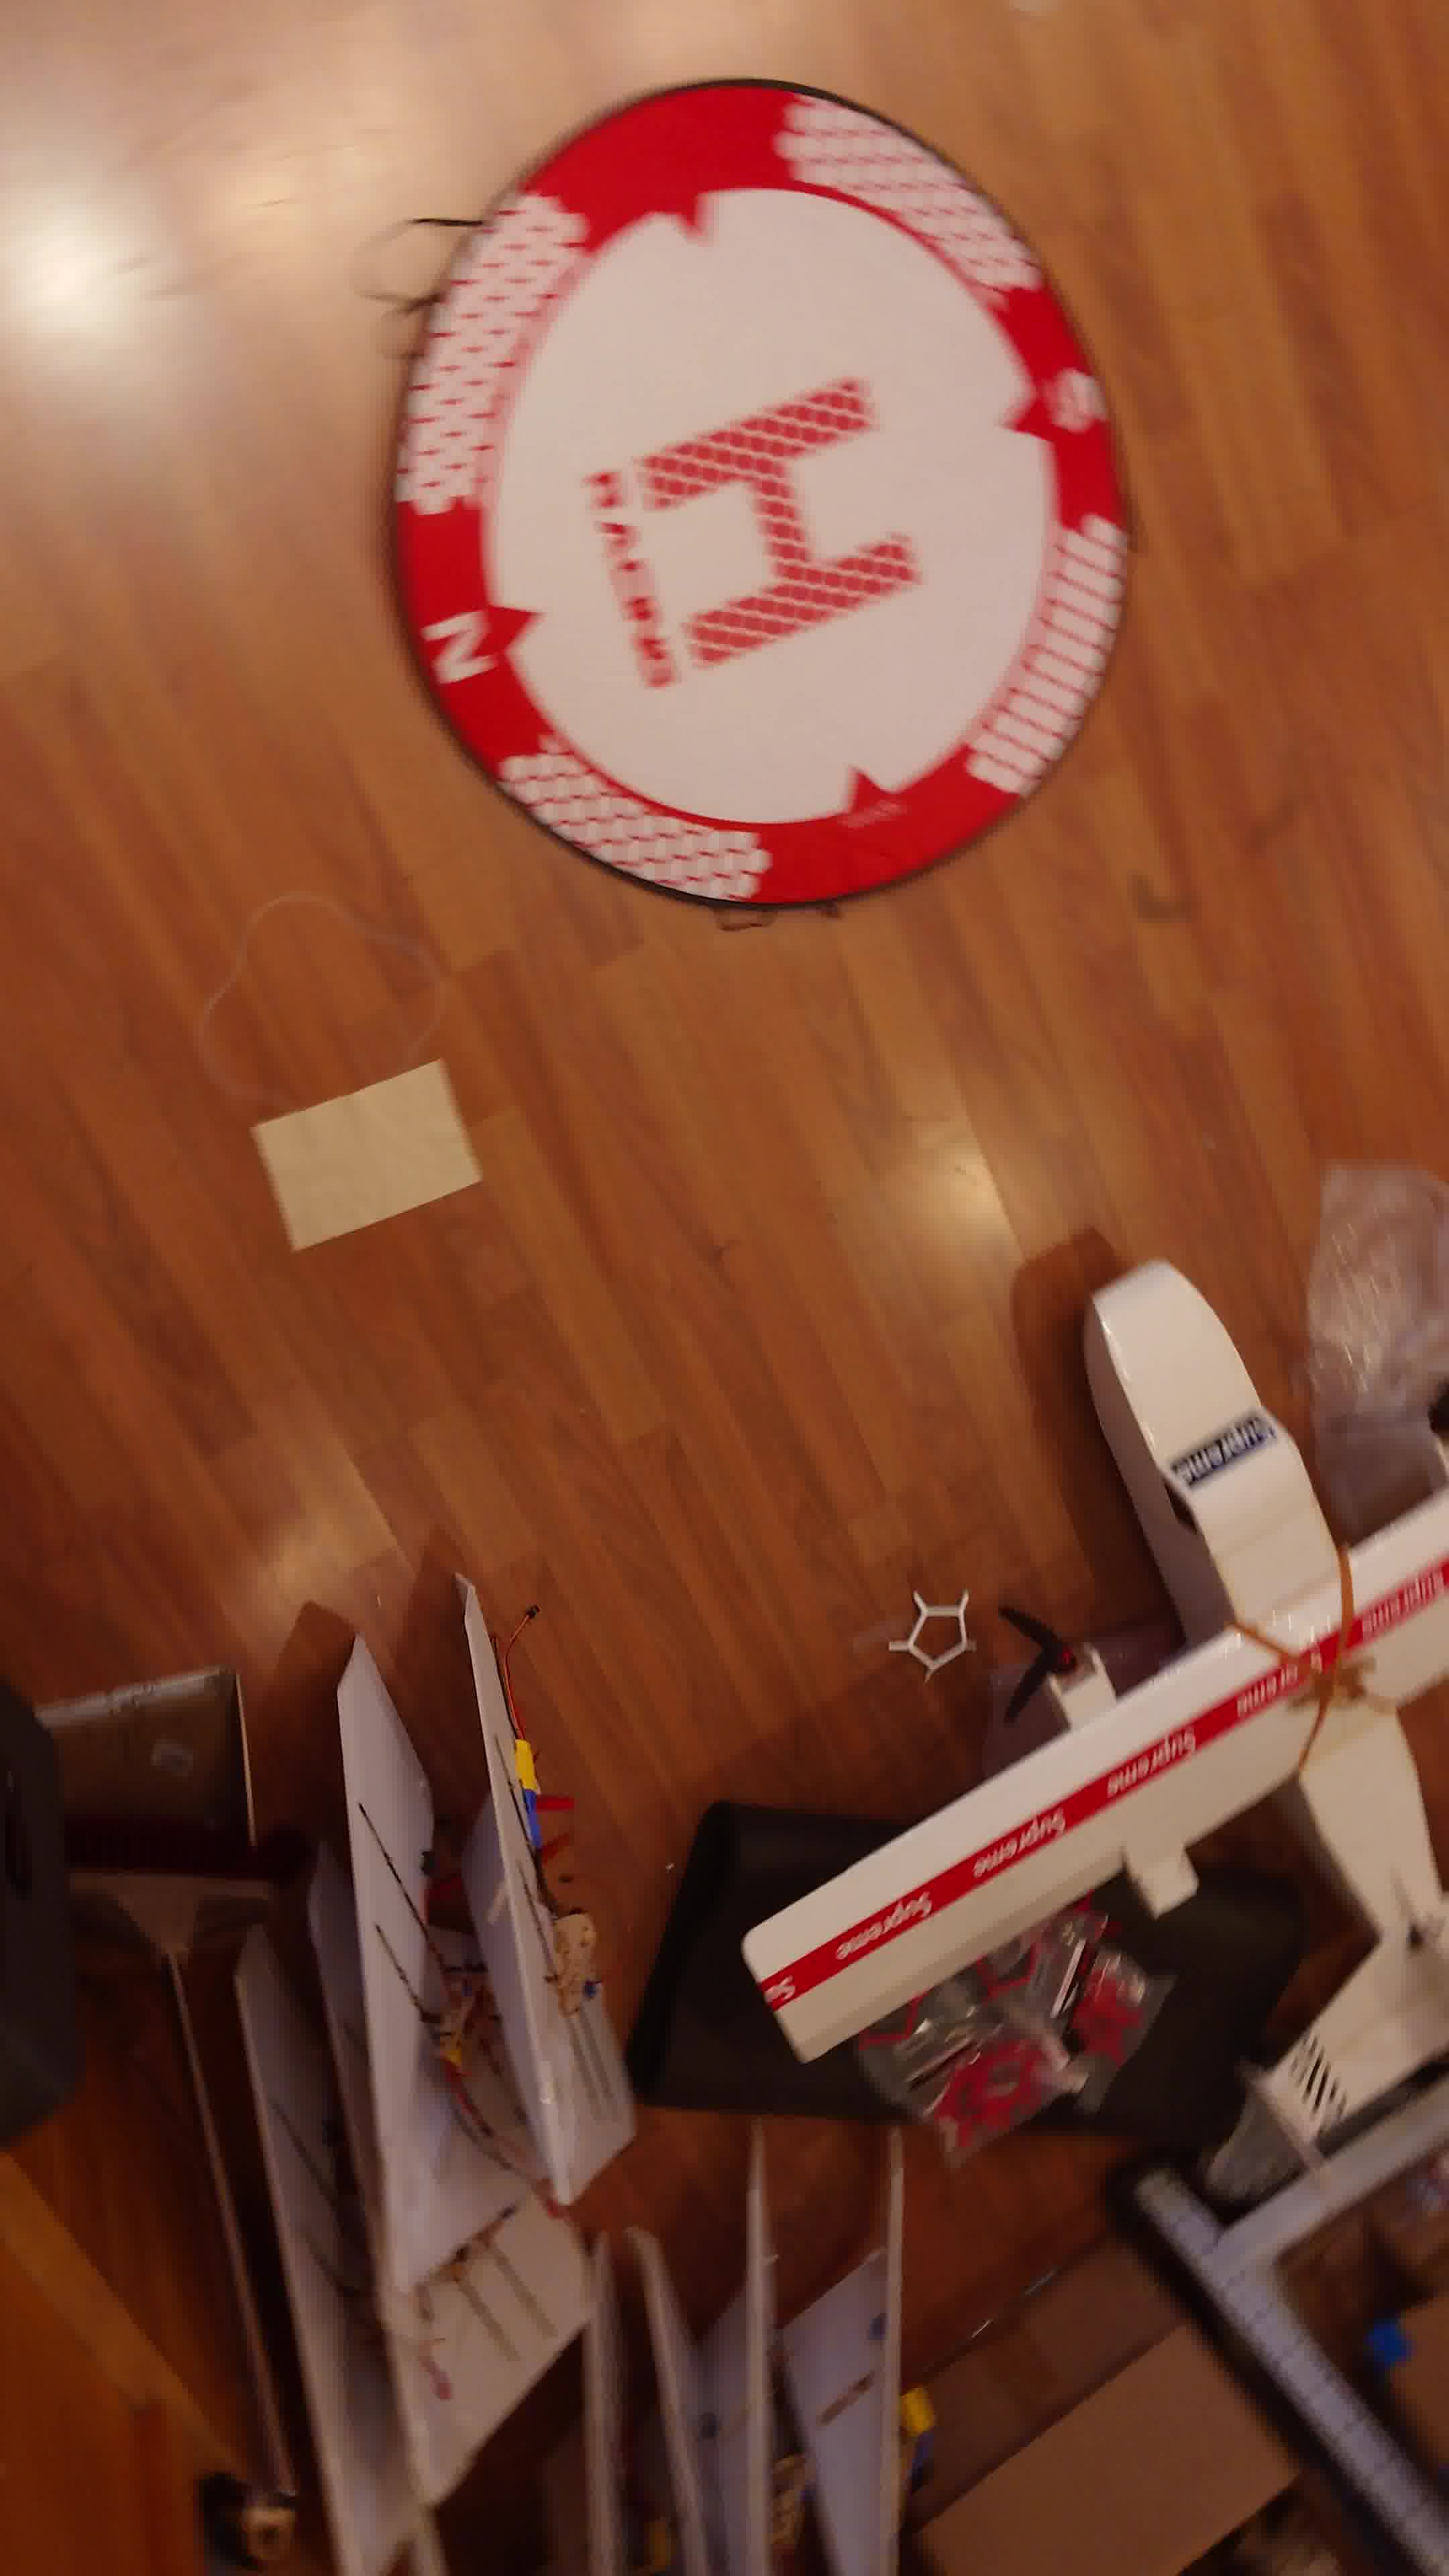H: (639, 379, 918, 669)
